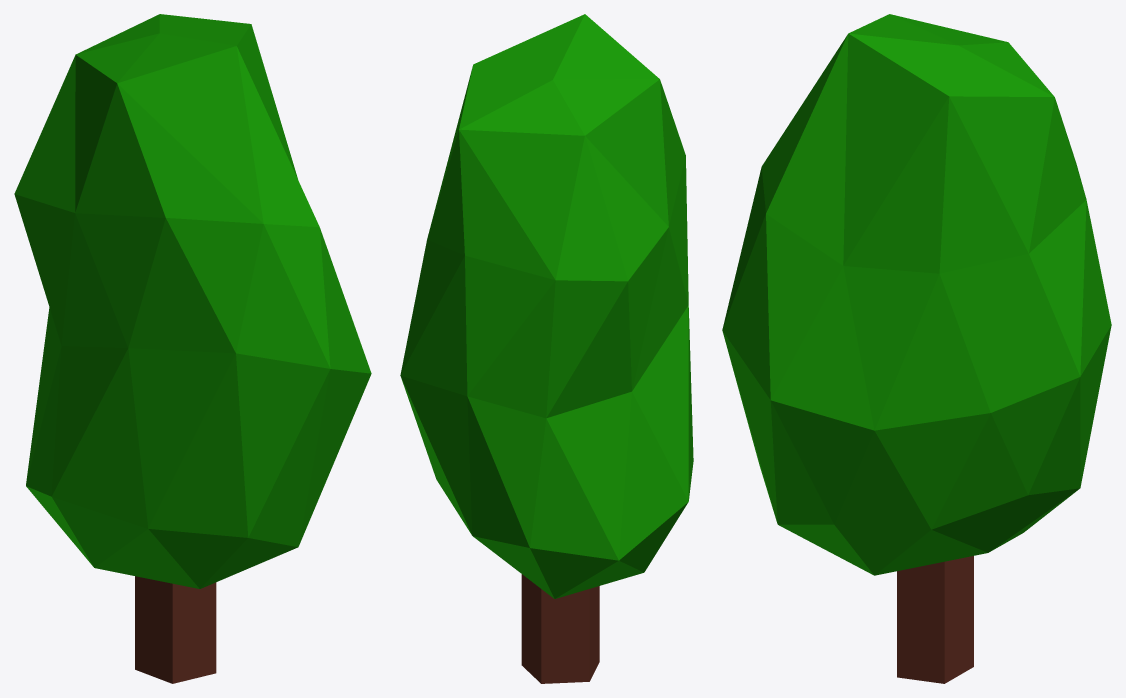
Rendered from Tree 1.fbx.
3 views of the same model, side by side, from view 1: azimuth 30°, elevation 25°; view 2: azimuth 150°, elevation 25°; view 3: azimuth 270°, elevation 25° (orthographic). The views are drawn at different scales.
Visible parts, largest first — view 1: Tree1; view 2: Tree1; view 3: Tree1.
Boxes of the visible parts, <box> form: Tree1: <box>14,14,371,683</box>; Tree1: <box>400,14,693,683</box>; Tree1: <box>722,14,1111,683</box>.
Bounding box in the file's own units: 1.64 × 3.84 × 2.11.
